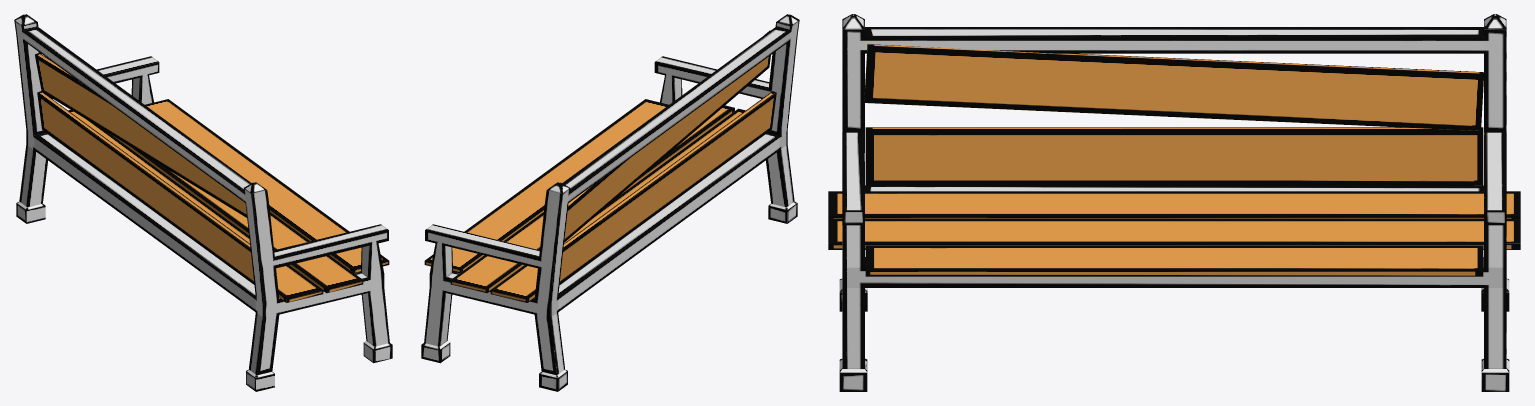
Rendered from bench.glb.
3 views of the same model, side by side, from view 1: azimuth 30°, elevation 25°; view 2: azimuth 150°, elevation 25°; view 3: azimuth 270°, elevation 25° (orthographic). The views are drawn at different scales.
Parts seen in each view (by area): view 1: Ferro, Asse 4, Asse 1, Asse 5, Asse 2, Asse 3; view 2: Ferro, Asse 4, Asse 1, Asse 5, Asse 2, Asse 3; view 3: Ferro, Asse 5, Asse 4, Asse 1, Asse 2, Asse 3.
Boxes of the visible parts, x1=… form: Ferro: x1=14, y1=14, x2=392, y2=391; Asse 4: x1=37, y1=91, x2=254, y2=284; Asse 1: x1=145, y1=99, x2=389, y2=273; Asse 5: x1=35, y1=53, x2=246, y2=217; Asse 2: x1=113, y1=136, x2=363, y2=293; Asse 3: x1=68, y1=110, x2=323, y2=302; Ferro: x1=421, y1=14, x2=799, y2=391; Asse 4: x1=559, y1=91, x2=776, y2=284; Asse 1: x1=424, y1=99, x2=668, y2=273; Asse 5: x1=564, y1=30, x2=770, y2=242; Asse 2: x1=450, y1=105, x2=734, y2=293; Asse 3: x1=490, y1=108, x2=745, y2=302; Ferro: x1=839, y1=14, x2=1509, y2=391; Asse 5: x1=864, y1=44, x2=1483, y2=130; Asse 4: x1=865, y1=127, x2=1483, y2=185; Asse 1: x1=865, y1=245, x2=1483, y2=276; Asse 2: x1=828, y1=218, x2=1520, y2=249; Asse 3: x1=828, y1=191, x2=1520, y2=218.
Size of the model in its own units: 1.42 by 1.9 by 4.17.
3 materials, 3 textured.
